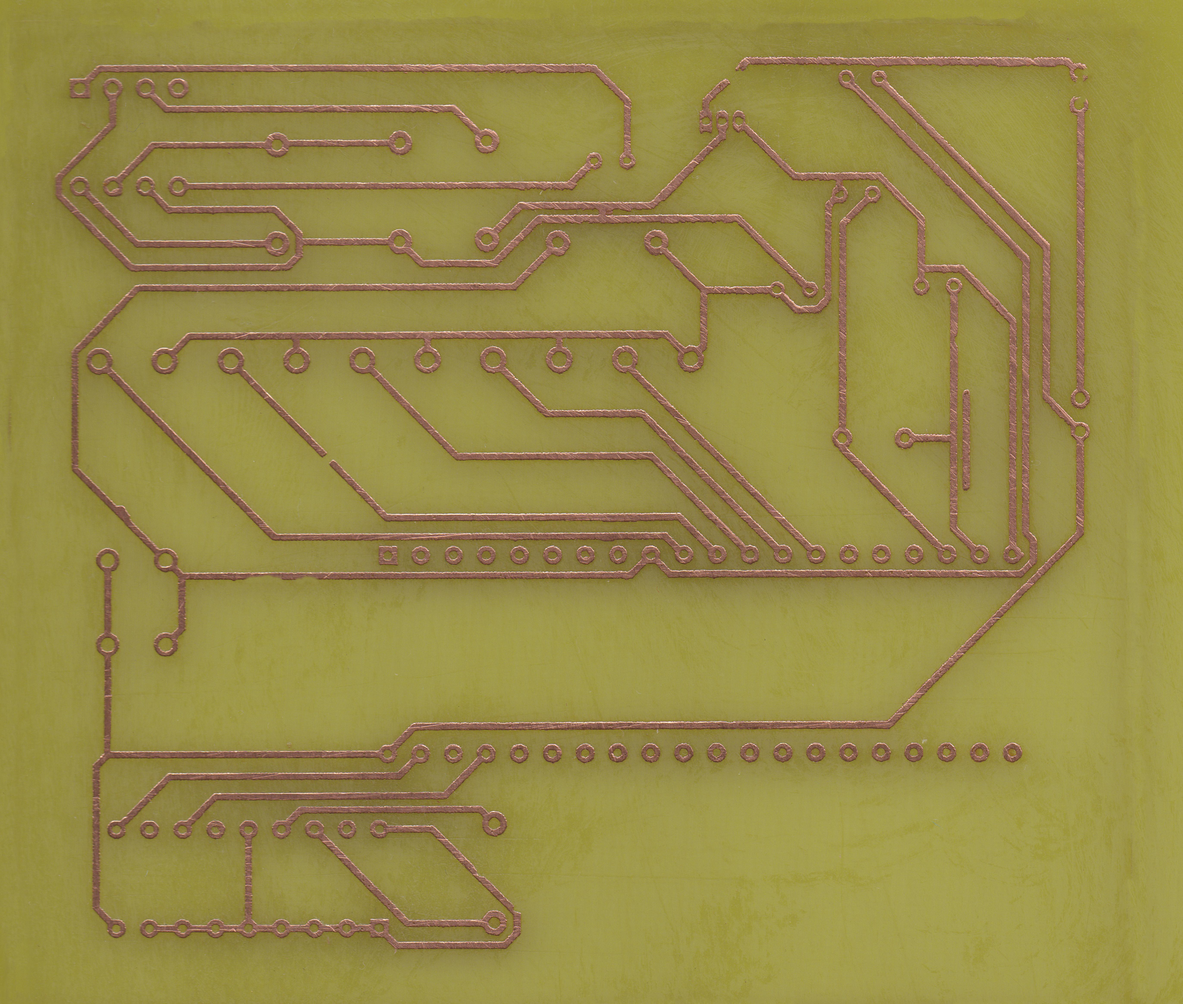missing_hole: (1069, 64, 1089, 84), (1068, 96, 1088, 115)
mouse_bite: (294, 573, 322, 580)
open_circuit: (722, 65, 746, 86), (320, 449, 336, 469)
short: (592, 202, 619, 223)
spur: (110, 504, 132, 525)
spurious_copper: (960, 387, 974, 493)
